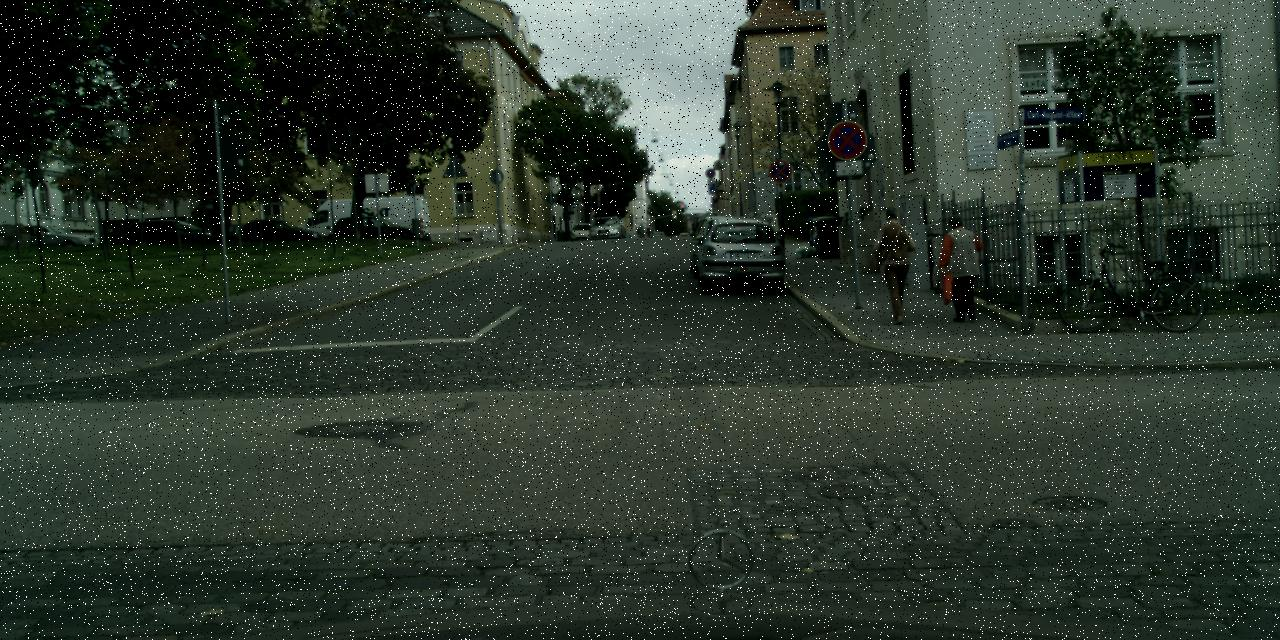ped: (871, 205, 918, 321), (939, 214, 982, 319)
